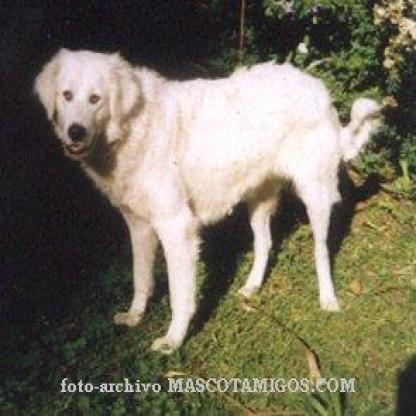kuvasz: (31, 45, 382, 356)
